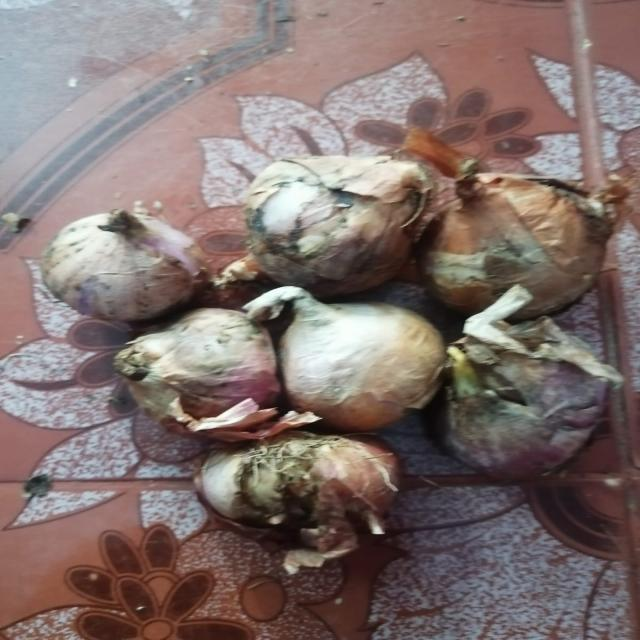rotten: (459, 352, 539, 439), (249, 188, 321, 270), (248, 452, 302, 518)
